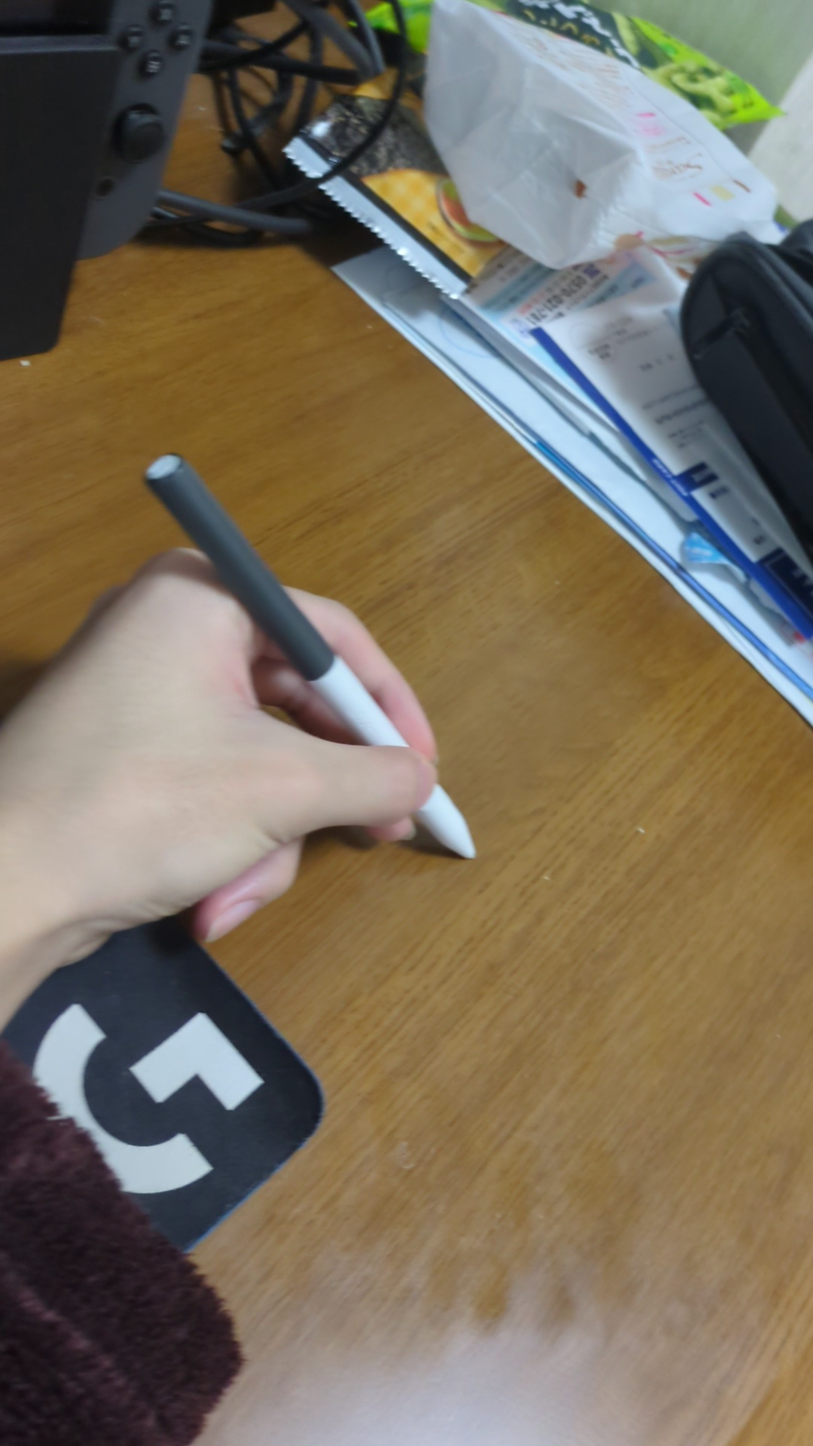pen: (143, 450, 483, 865)
tip: (464, 844, 493, 871)
